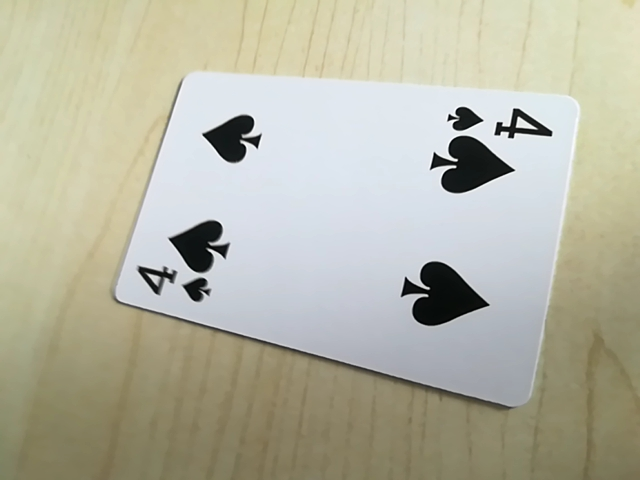ht 4: (440, 95, 554, 140), (127, 262, 222, 308)
